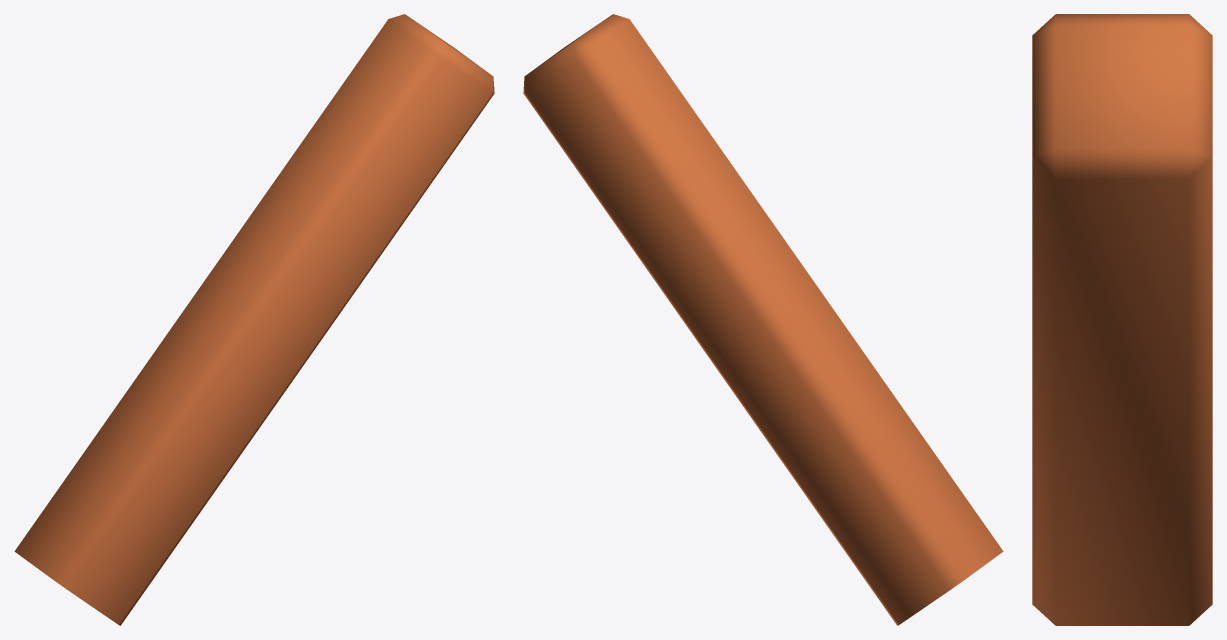
Rendered from bridgeTileStand.glb.
3 renders of one model, left to right at view 1: azimuth 30°, elevation 25°; view 2: azimuth 150°, elevation 25°; view 3: azimuth 270°, elevation 25°, orthographic. The views are drawn at different scales.
Visible parts, largest first — view 1: bridgeTileStand; view 2: bridgeTileStand; view 3: bridgeTileStand.
Boxes of the visible parts, bbox=[...] form: bridgeTileStand: bbox=[14, 14, 494, 625]; bridgeTileStand: bbox=[523, 14, 1003, 625]; bridgeTileStand: bbox=[1032, 14, 1212, 625].
Size of the model in its own units: 0.7652 by 0.8362 by 0.1564.
1 material, 1 textured.
